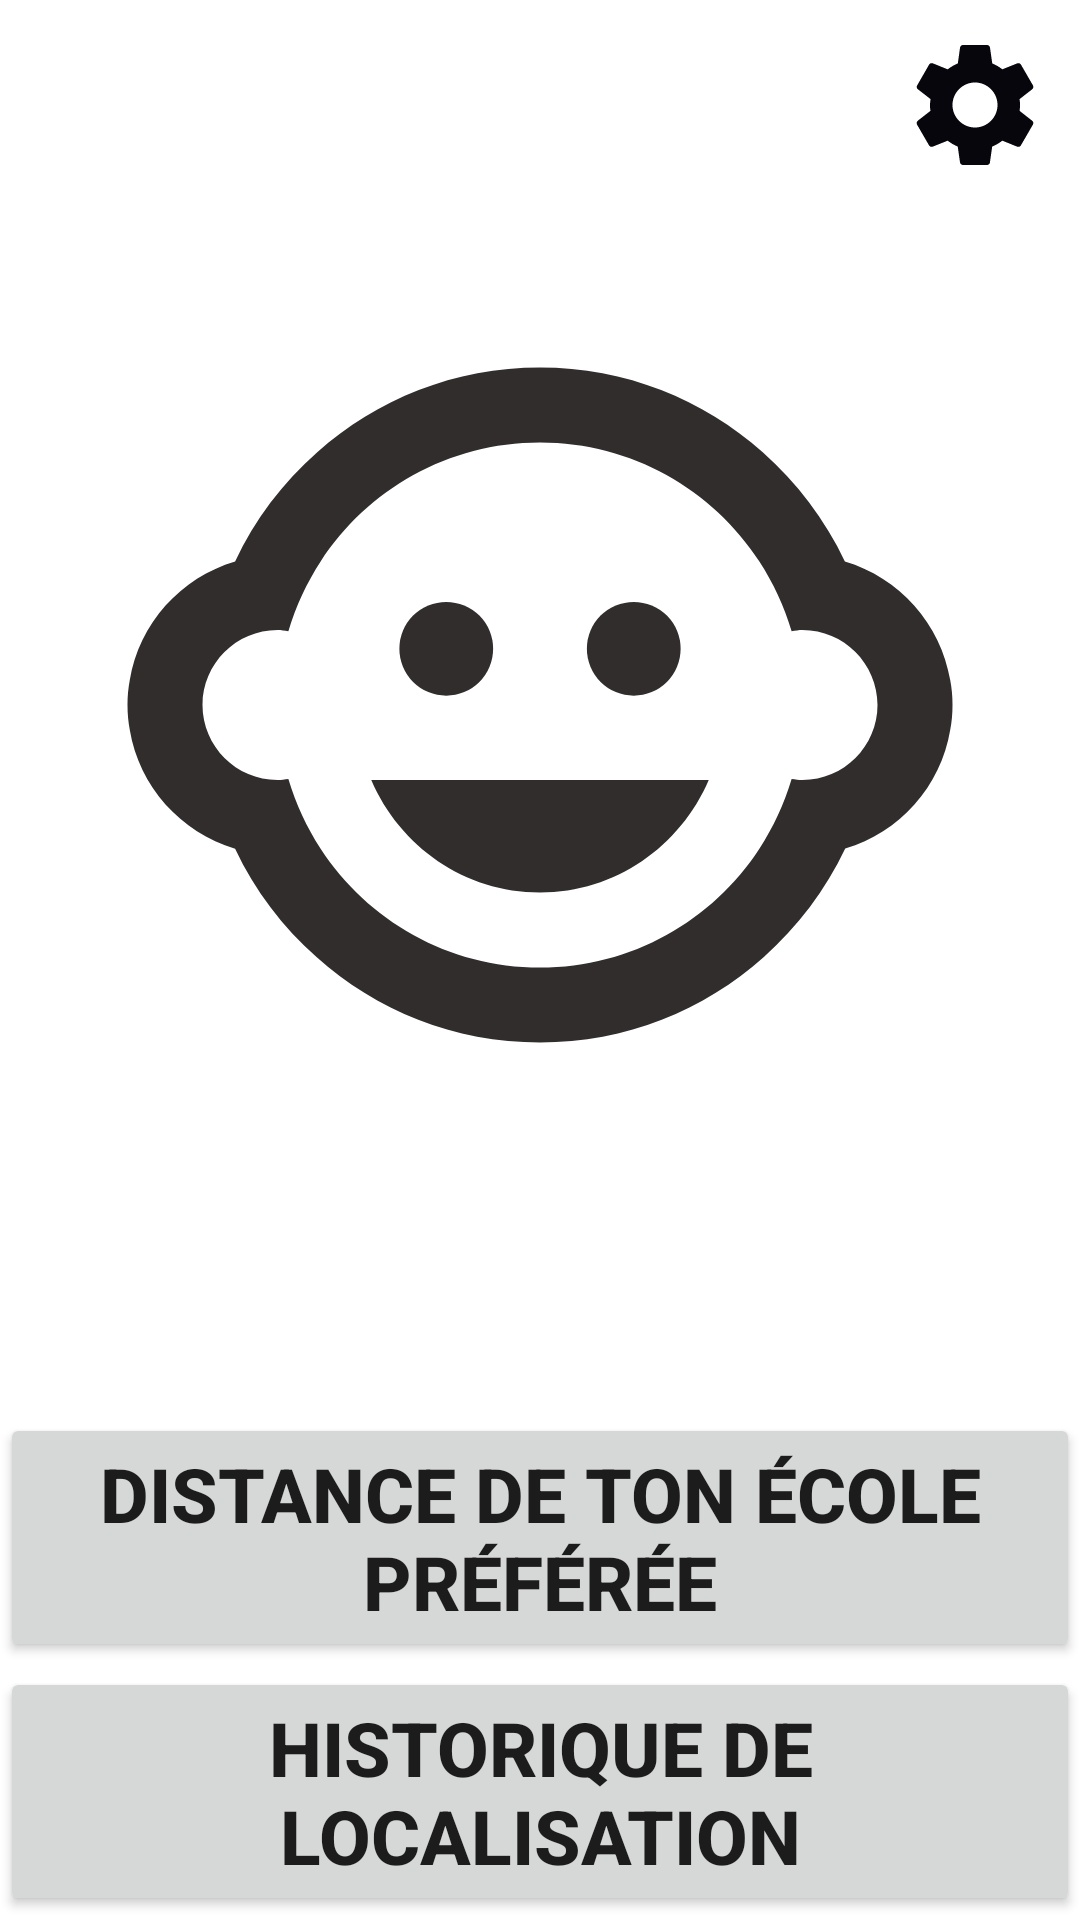

Named icons in this screenshot (1080×1920) and their centers, (x=x, y=y):
settings: (x=975, y=105)
